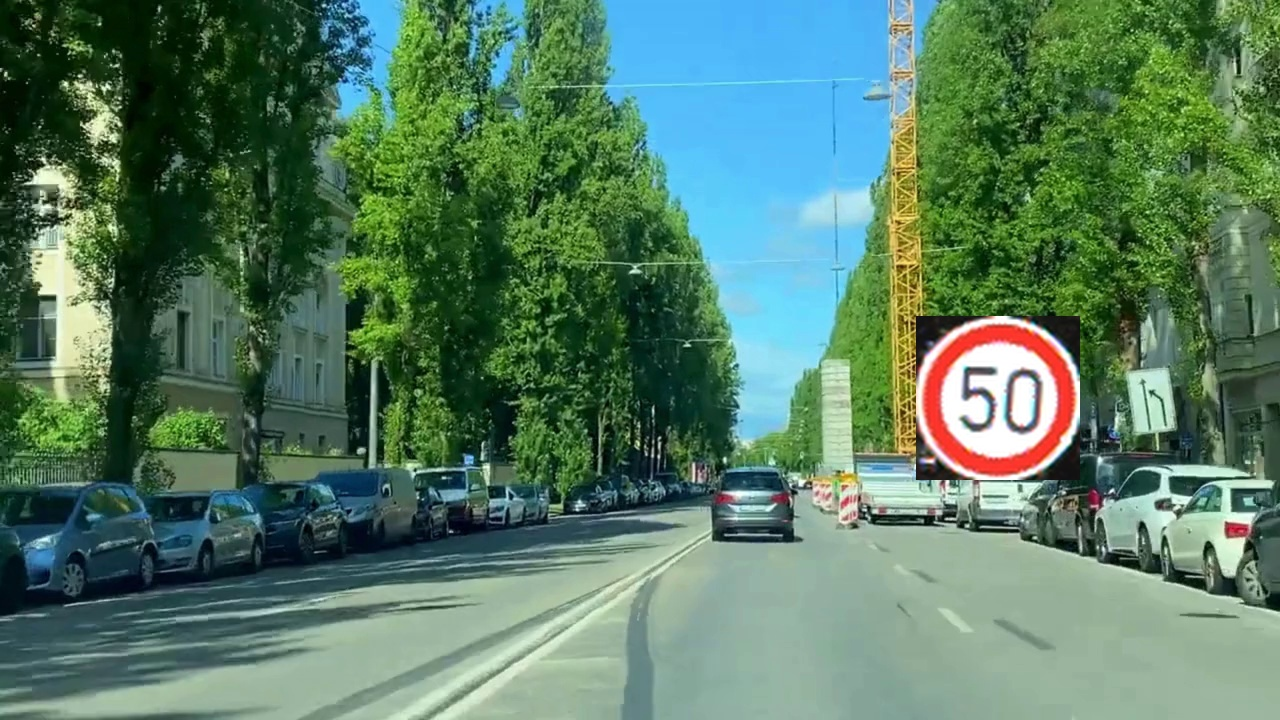Speed 50: (916, 316, 1080, 480)
